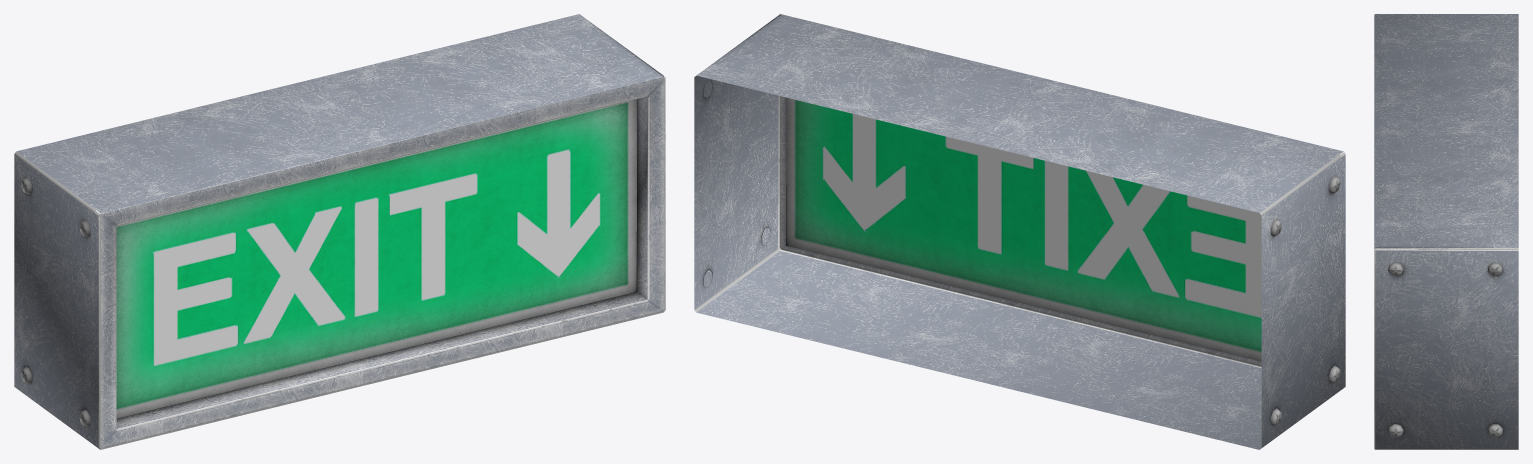
File: Exit.FBX
3 renders of one model, left to right at view 1: azimuth 30°, elevation 25°; view 2: azimuth 150°, elevation 25°; view 3: azimuth 270°, elevation 25°, orthographic. The views are drawn at different scales.
Parts seen in each view (by area): view 1: Exit; view 2: Exit; view 3: Exit.
Boxes of the visible parts, <box> form: Exit: <box>14,14,665,449</box>; Exit: <box>694,14,1345,449</box>; Exit: <box>1374,14,1518,449</box>.
Bounding box in the file's own units: 0.3405 × 0.1343 × 0.087.
1 material, 1 textured.
